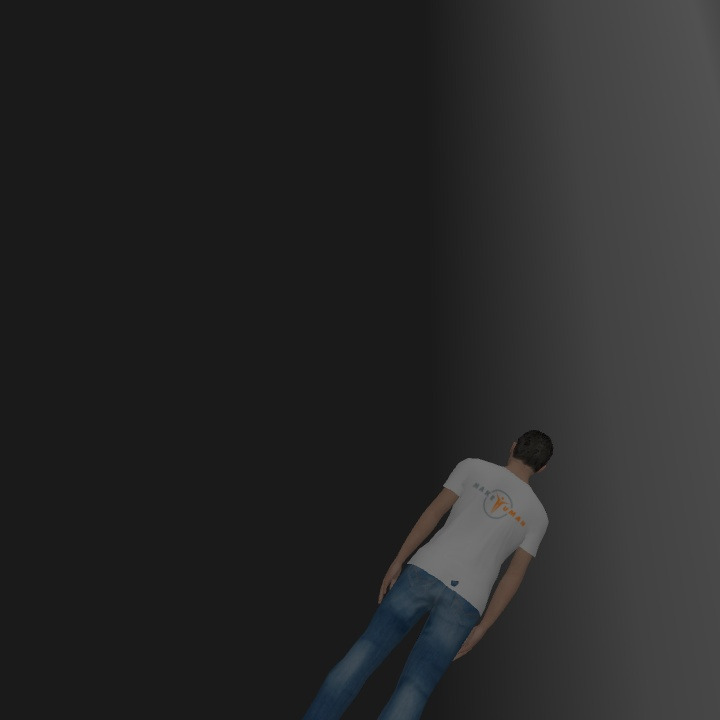victim: (307, 424, 553, 715)
